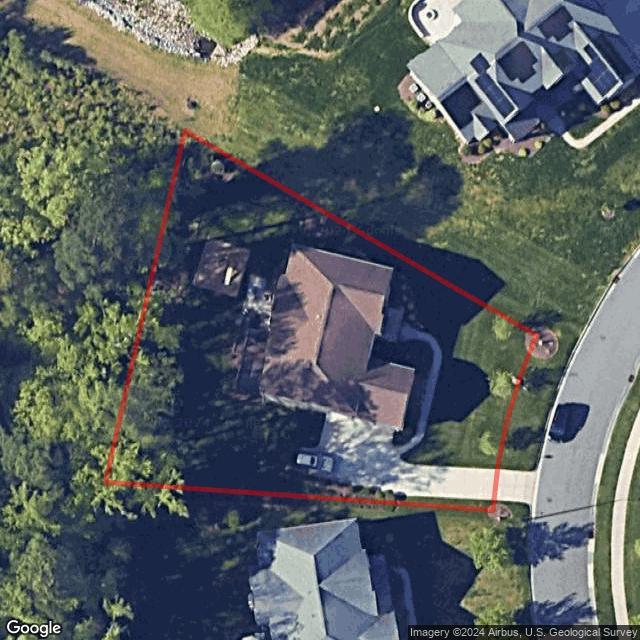Driveway: (284, 412, 498, 499)
Extra-Driveway: (495, 469, 537, 503)
Extra-Lawn: (498, 335, 573, 470), (493, 500, 531, 513)
House: (256, 242, 415, 431)
Lawn: (105, 130, 536, 509)
Other: (218, 274, 276, 398), (371, 335, 434, 447), (190, 236, 252, 300), (389, 270, 431, 333)
Sidewalk: (396, 319, 444, 459)
